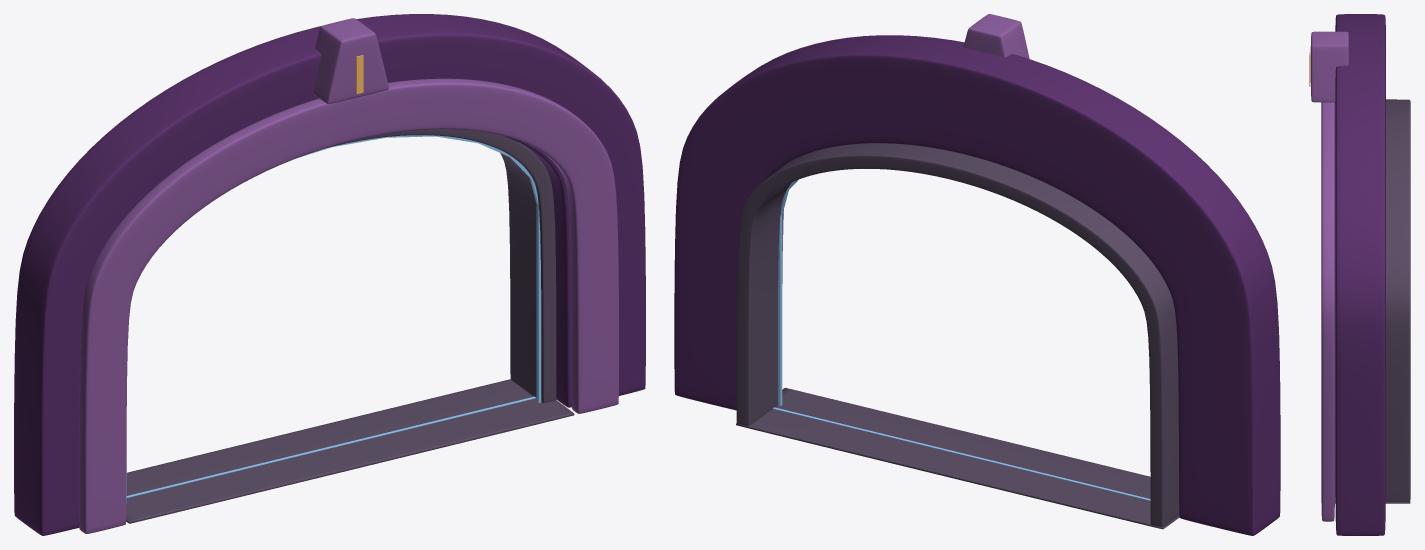
Rendered from SM_SB_Kit_KeelShell_Portal.fbx.
The picture shows the model from 3 angles, left to right: view 1: azimuth 30°, elevation 25°; view 2: azimuth 150°, elevation 25°; view 3: azimuth 270°, elevation 25°; orthographic projection. The views are drawn at different scales.
Parts seen in each view (by area): view 1: SM_SB_Kit_KeelShell_Portal; view 2: SM_SB_Kit_KeelShell_Portal; view 3: SM_SB_Kit_KeelShell_Portal.
Boxes of the visible parts, <box> form: SM_SB_Kit_KeelShell_Portal: <box>14,14,645,535</box>; SM_SB_Kit_KeelShell_Portal: <box>674,14,1280,535</box>; SM_SB_Kit_KeelShell_Portal: <box>1309,14,1410,535</box>.
Size of the model in its own units: 680 by 115 by 470.
